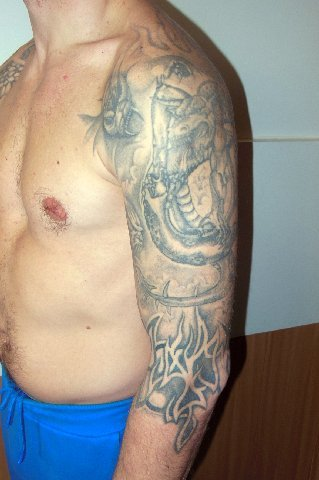tatu6_drakon: (132, 49, 244, 317)
